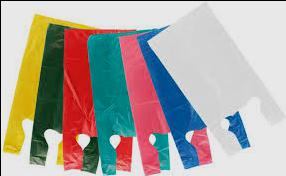Plastic: (144, 7, 283, 147)
